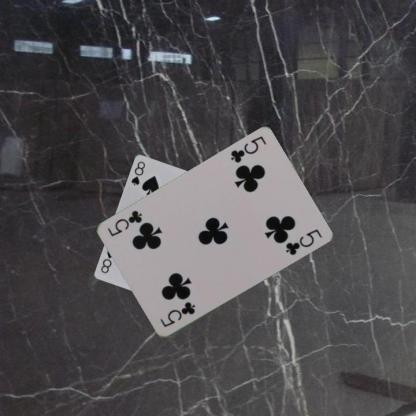5c: (157, 299, 197, 329), (228, 134, 268, 164)
8s: (128, 158, 146, 187)
